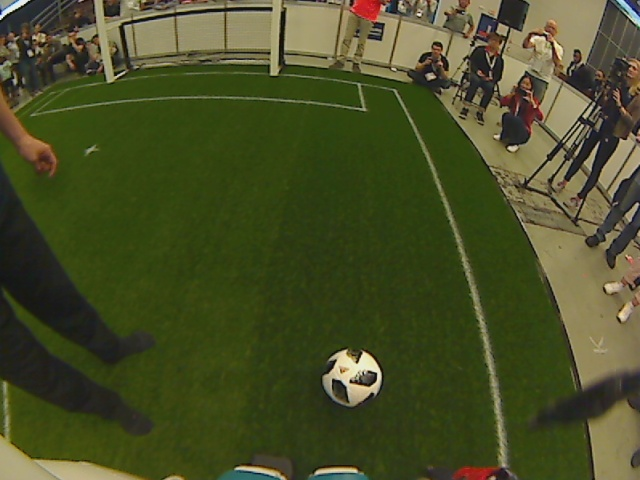ball: (321, 344, 382, 409)
